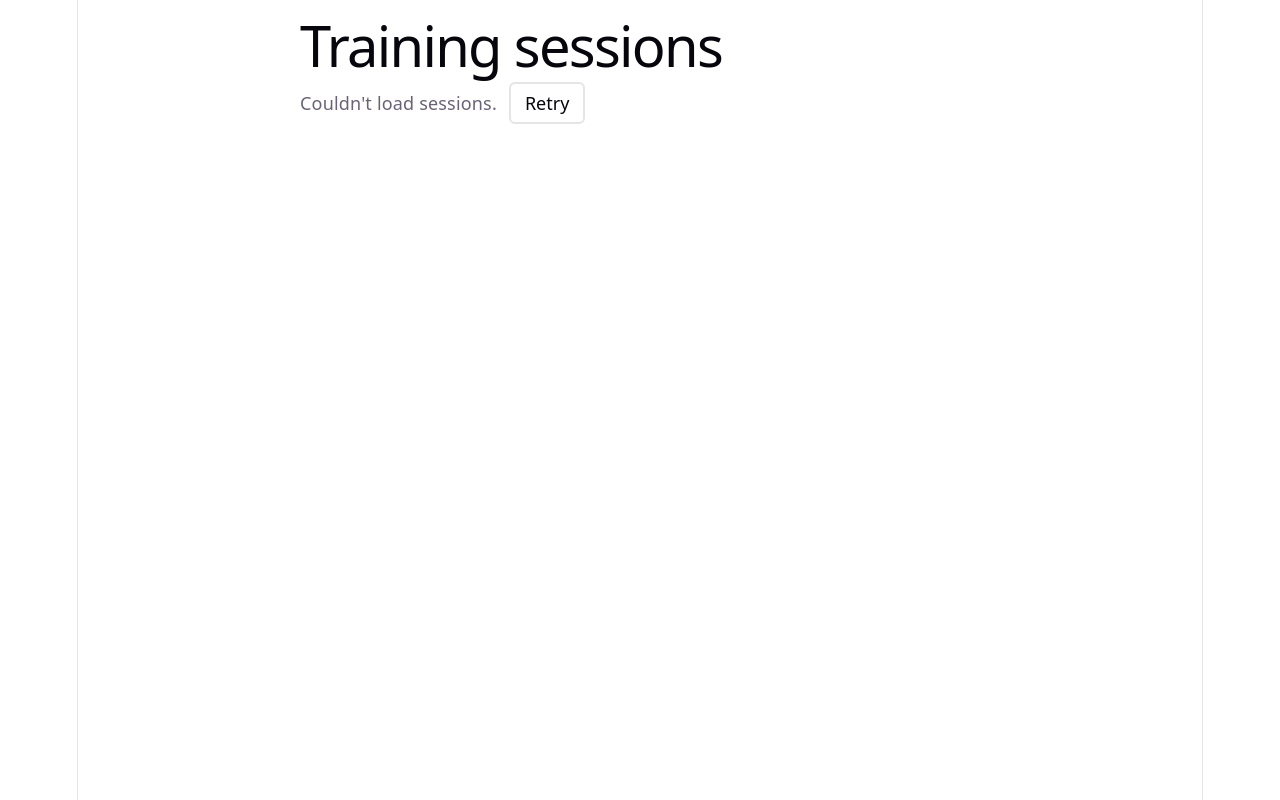
Test: training sessions workspace › shows an error and recovers after Retry
The width and height of the screenshot is (1280, 800).
Expected: the message reads "Couldn't load sessions.", x1=300 y1=91 x2=497 y2=115
Click the button "Retry". click: coordinates (547, 103)
box: x1=509 y1=82 x2=585 y2=124
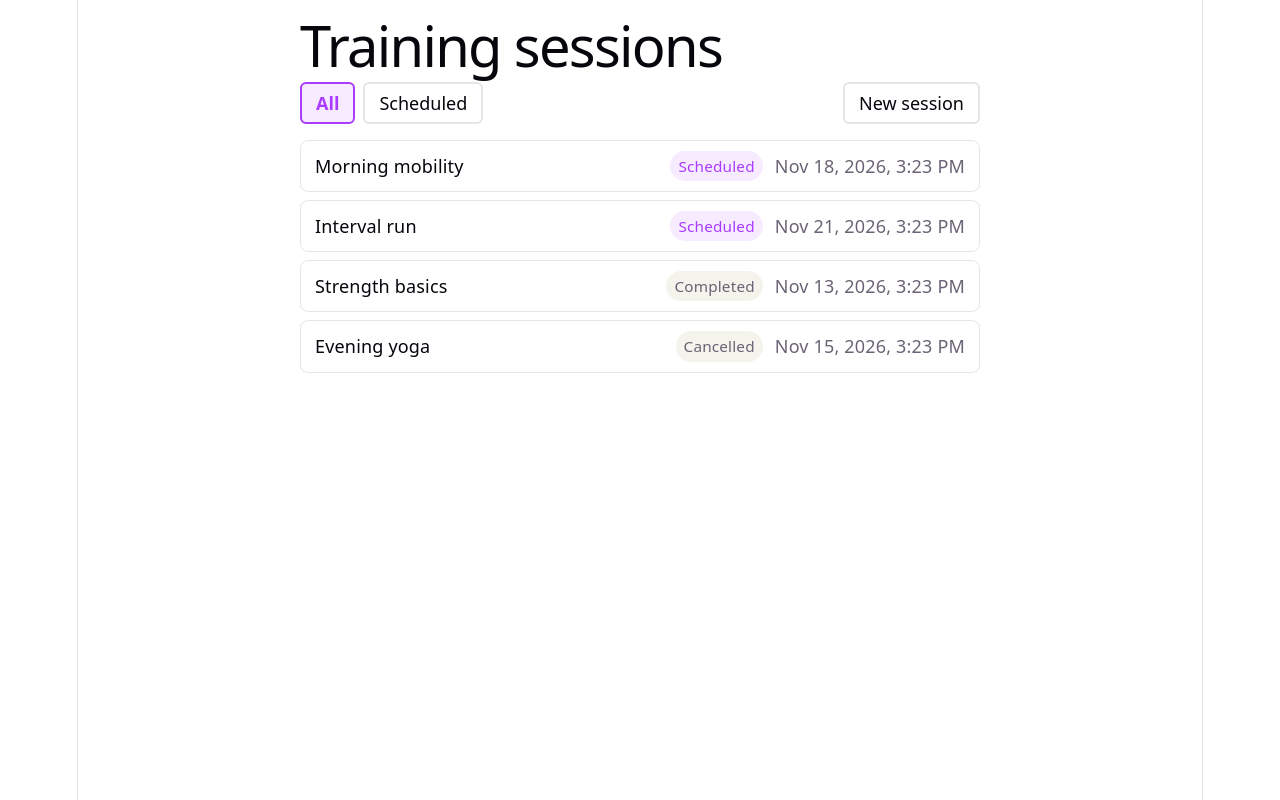
Result: the list named "Sessions" is shown at x1=300 y1=140 x2=980 y2=373
Result: the message "Couldn't load sessions." is gone
